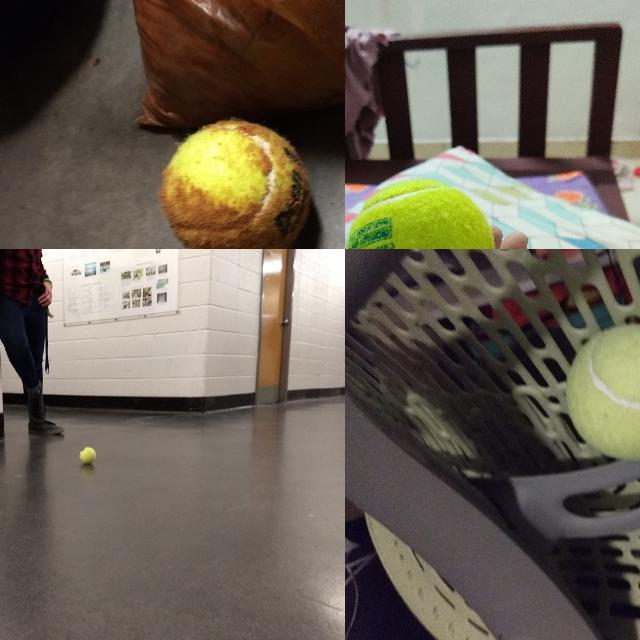tennis-ball: (158, 118, 312, 248), (565, 323, 639, 464), (346, 179, 495, 248), (78, 446, 95, 464)
